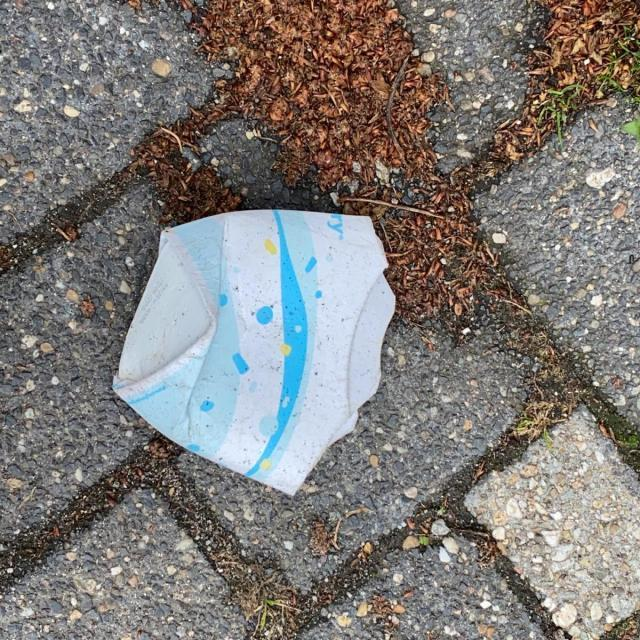Paper: (108, 204, 402, 499)
